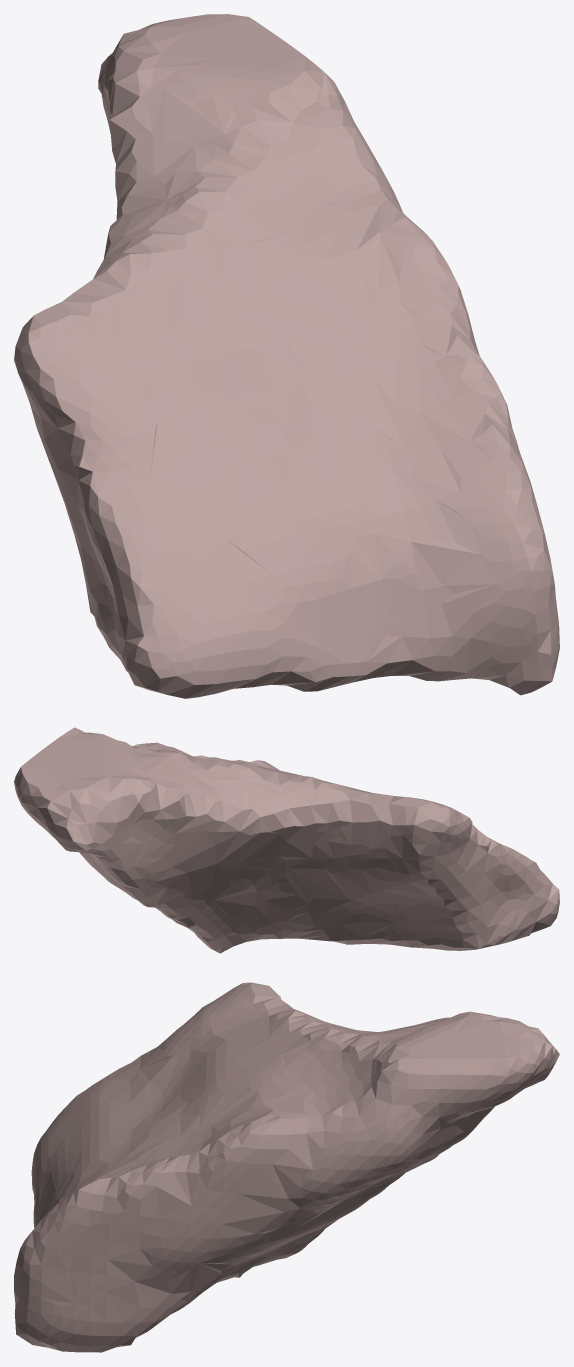
File: Model_124_RH__Secondary_somatosensory_cortex__parietal_rostral_area_(S2PR).obj
3 renders of one model, top to bottom at view 1: azimuth 30°, elevation 25°; view 2: azimuth 150°, elevation 25°; view 3: azimuth 270°, elevation 25°, orthographic. The views are drawn at different scales.
Size of the model in its own units: 2.34 by 2.01 by 3.29.
